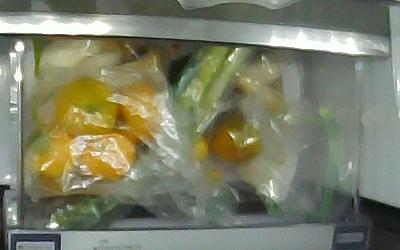tangerine_vinyl: (49, 74, 117, 136), (68, 130, 137, 181), (112, 79, 162, 143), (208, 110, 263, 165), (24, 121, 72, 184)
